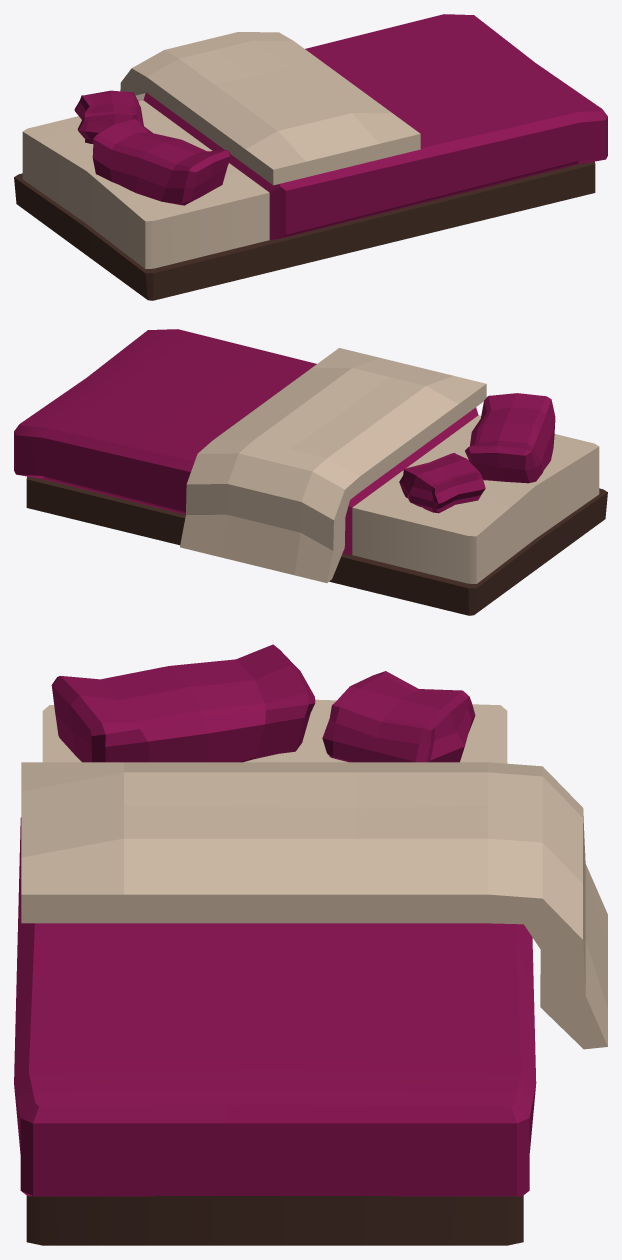
The model's file is bed.fbx.
3 views of the same model, one above another, from view 1: azimuth 30°, elevation 25°; view 2: azimuth 150°, elevation 25°; view 3: azimuth 270°, elevation 25° (orthographic). The views are drawn at different scales.
Parts seen in each view (by area): view 1: Cube, Cube.003, Cube.001, Cube.002; view 2: Cube, Cube.003, Cube.001, Cube.002; view 3: Cube, Cube.003, Cube.001, Cube.002.
Part boxes in pixels (box(x1,y1,x2,y2)): Cube: box(14, 14, 607, 300); Cube.003: box(120, 32, 420, 185); Cube.001: box(92, 119, 230, 205); Cube.002: box(74, 90, 143, 143); Cube: box(14, 329, 607, 615); Cube.003: box(180, 348, 486, 582); Cube.001: box(465, 393, 555, 483); Cube.002: box(399, 453, 485, 513); Cube: box(14, 699, 536, 1245); Cube.003: box(21, 762, 607, 1049); Cube.001: box(51, 644, 315, 762); Cube.002: box(322, 671, 475, 762).
Size of the model in its own units: 628 by 151 by 379.
